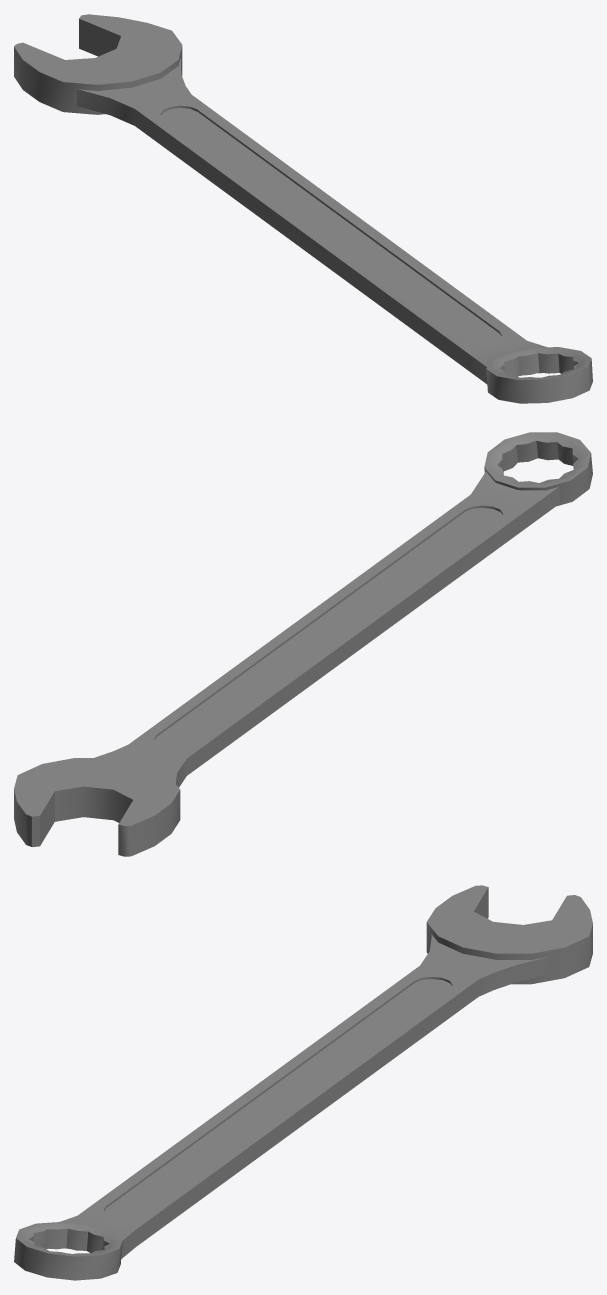
File: Wrench.fbx
The picture shows the model from 3 angles, top to bottom: view 1: azimuth 30°, elevation 25°; view 2: azimuth 150°, elevation 25°; view 3: azimuth 330°, elevation 25°; orthographic projection.
Visible parts, largest first — view 1: Wrench; view 2: Wrench; view 3: Wrench.
Part boxes in pixels (left/top/right/bottom): Wrench: left=14, top=14, right=592, bottom=403; Wrench: left=14, top=432, right=592, bottom=856; Wrench: left=14, top=885, right=592, bottom=1280.
Bounding box in the file's own units: 10.53 × 3.02 × 64.92.
